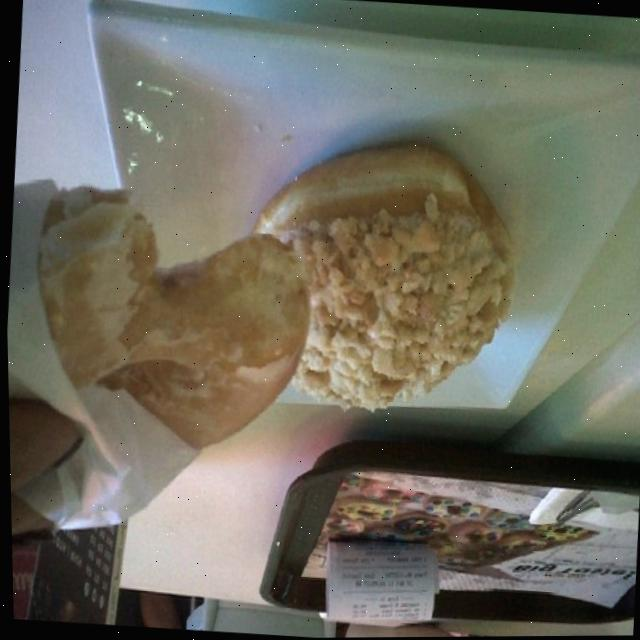炸货点心: (14, 69, 560, 568)
